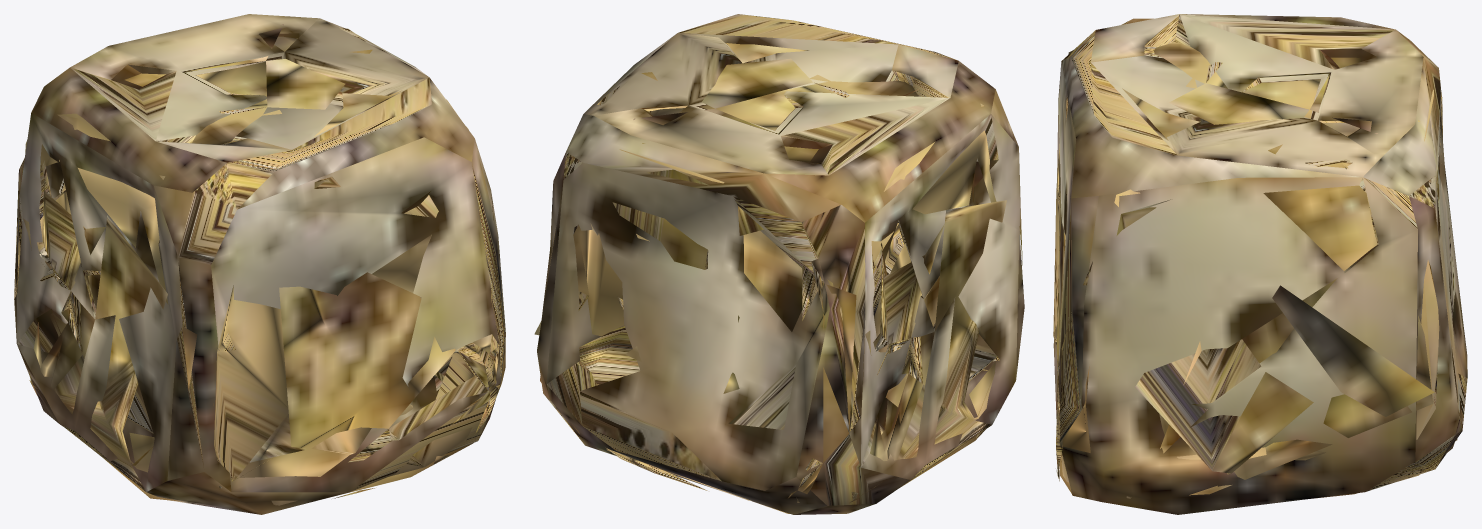
The model's file is die.glb.
The picture shows the model from 3 angles, left to right: view 1: azimuth 30°, elevation 25°; view 2: azimuth 150°, elevation 25°; view 3: azimuth 270°, elevation 25°; orthographic projection. The views are drawn at different scales.
Parts seen in each view (by area): view 1: geometry_0; view 2: geometry_0; view 3: geometry_0.
Part boxes in pixels (x1,y1,x2,y2): geometry_0: (14,14,505,514); geometry_0: (534,14,1024,514); geometry_0: (1053,14,1467,514).
Size of the model in its own units: 0.6769 by 0.6793 by 0.6854.
Materials: 1 (1 with a texture image).
